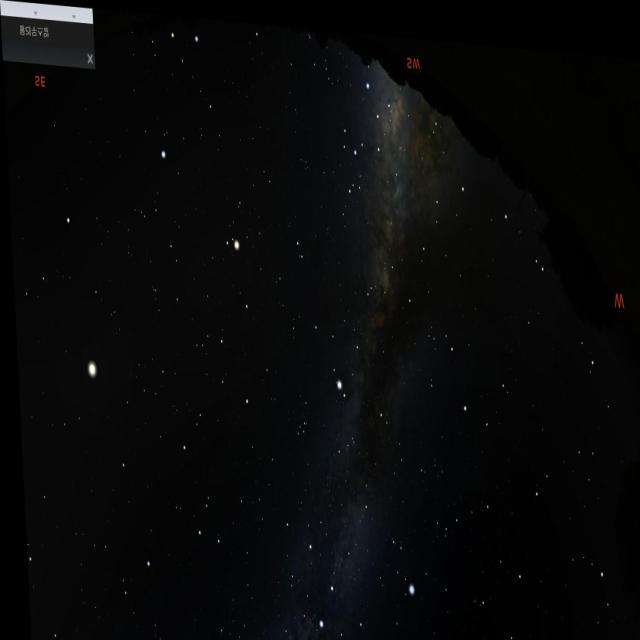aquila: (312, 266, 386, 402)
cygnus: (290, 486, 364, 640)
lyra: (365, 510, 420, 622)
sagittarius: (341, 62, 395, 164)
